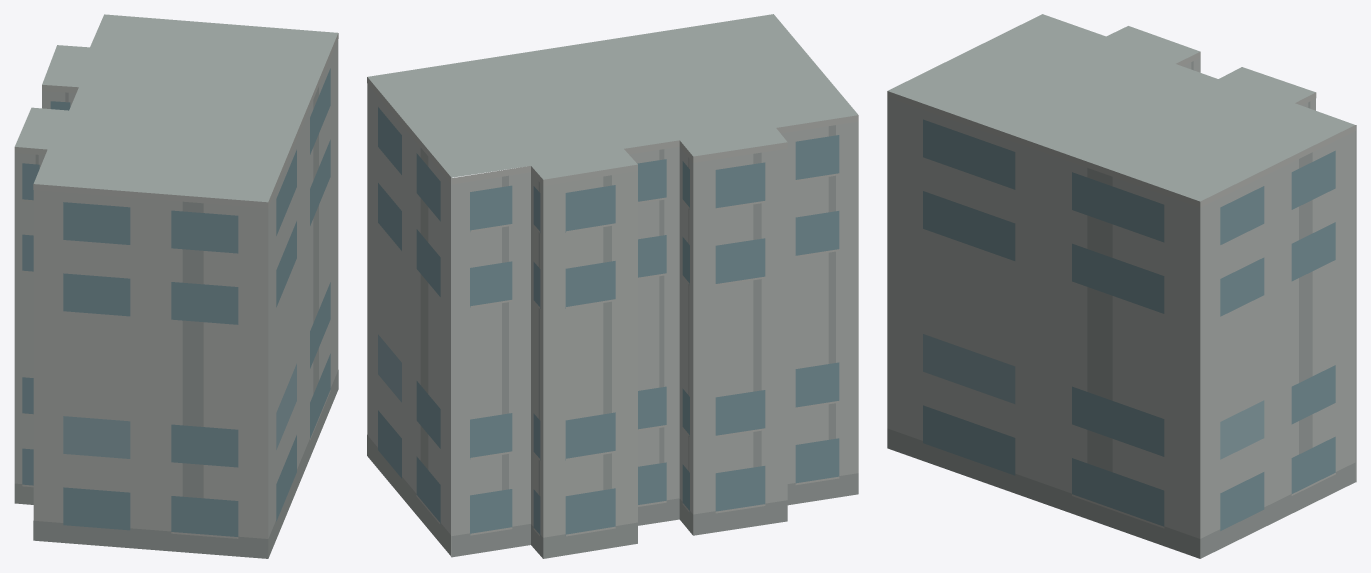
File: survey-upis-32622108.glb
The picture shows the model from 3 angles, left to right: view 1: azimuth 30°, elevation 25°; view 2: azimuth 150°, elevation 25°; view 3: azimuth 270°, elevation 25°; orthographic projection. The views are drawn at different scales.
Parts seen in each view (by area): view 1: survey-upis-32622108.tmp; view 2: survey-upis-32622108.tmp; view 3: survey-upis-32622108.tmp.
Part boxes in pixels (box(x1,y1,x2,y2)): survey-upis-32622108.tmp: box(14, 14, 338, 558); survey-upis-32622108.tmp: box(367, 14, 858, 558); survey-upis-32622108.tmp: box(887, 14, 1356, 558).
Size of the model in its own units: 16.1 by 14.3 by 17.03.
